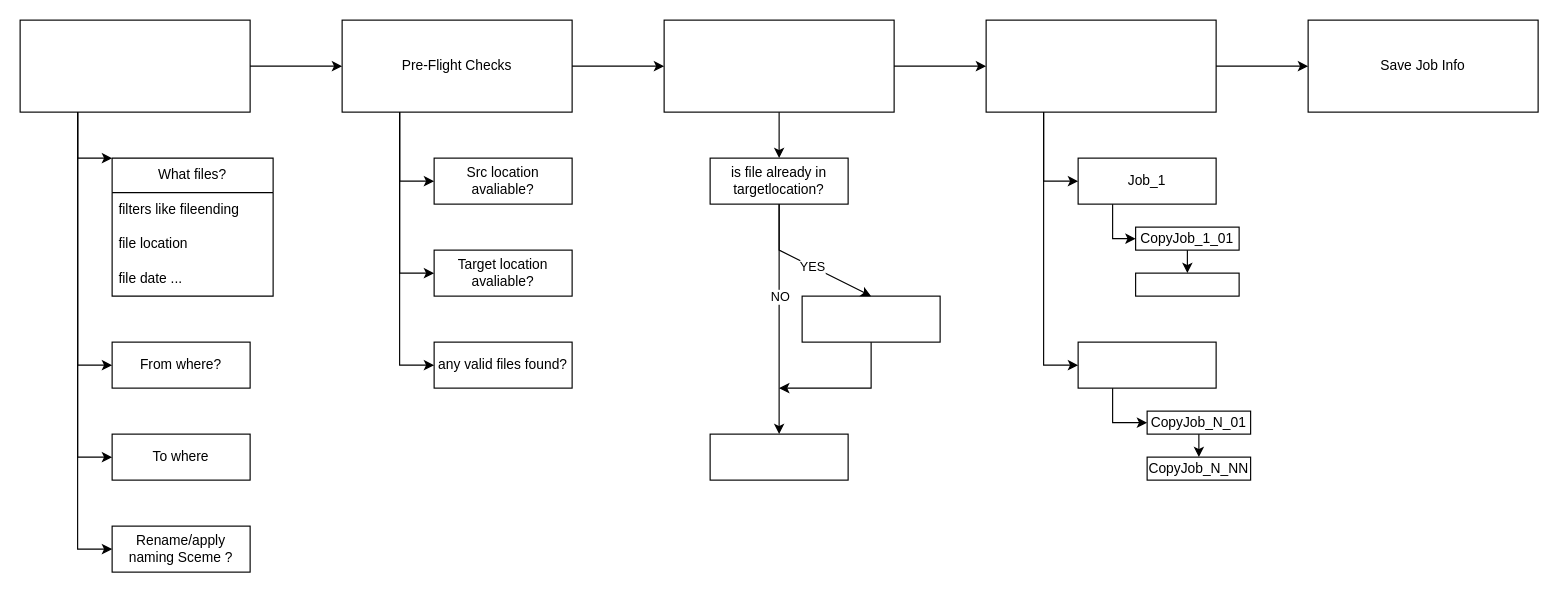
Some shapes in this 1558 by 592 pixel diagram are drawn without their labels. The shapes that lost their labels are listed below. From the top down, each one's centre as x and y in pixels, then its label:
pixel 134 65: Get Job Params
pixel 778 65: Build Copy Jobs for Each File
pixel 1100 65: Run Jobs in Paralell, CopyJobs in Series
pixel 1186 284: CopyJob_1_NN
pixel 870 318: apply override params
pixel 1146 364: Job_N
pixel 778 456: Save Copy Job in CopyJoblist
